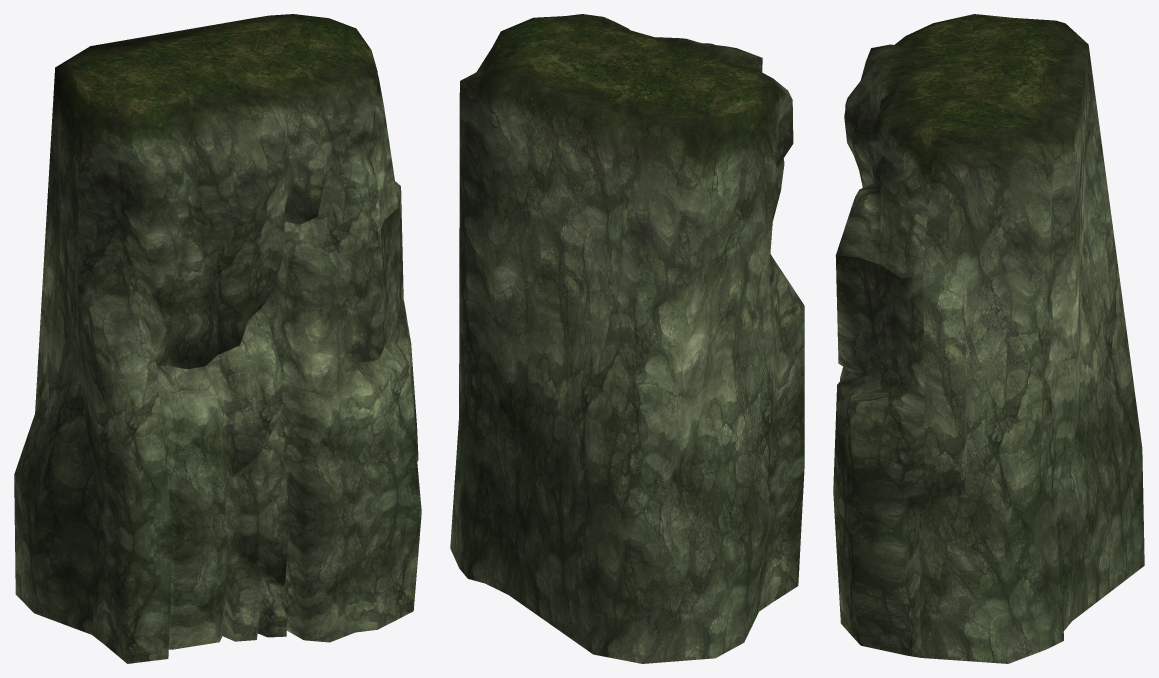
The model's file is s7_fightpve_shitou03.FBX.
3 renders of one model, left to right at view 1: azimuth 30°, elevation 25°; view 2: azimuth 150°, elevation 25°; view 3: azimuth 270°, elevation 25°, orthographic. The views are drawn at different scales.
Visible parts, largest first — view 1: 01; view 2: 01; view 3: 01.
Boxes of the visible parts, x1,y1,x2,y2 form: 01: (14,14,421,663); 01: (450,14,804,663); 01: (833,14,1144,663).
Size of the model in its own units: 1626 by 2533 by 1361.
